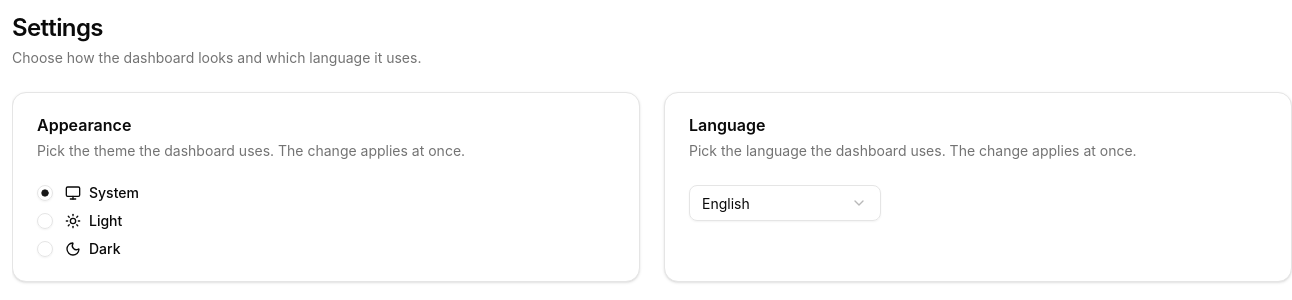
SettingsPage › applies and persists a language change and keeps the Language label
The image size is (1292, 300).
Select "한국어" in the dropdown named "Language" at (785, 203), box [689,185,881,221]
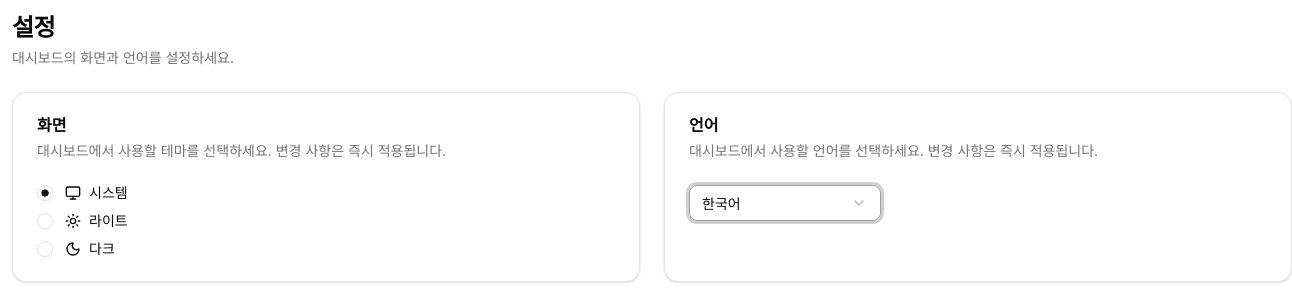
Expected: the heading "설정" is shown, [12,13,55,42]
Expected: the text "화면" is shown, [37,115,66,135]
Expected: the element named "테마" is shown, [37,184,128,257]
